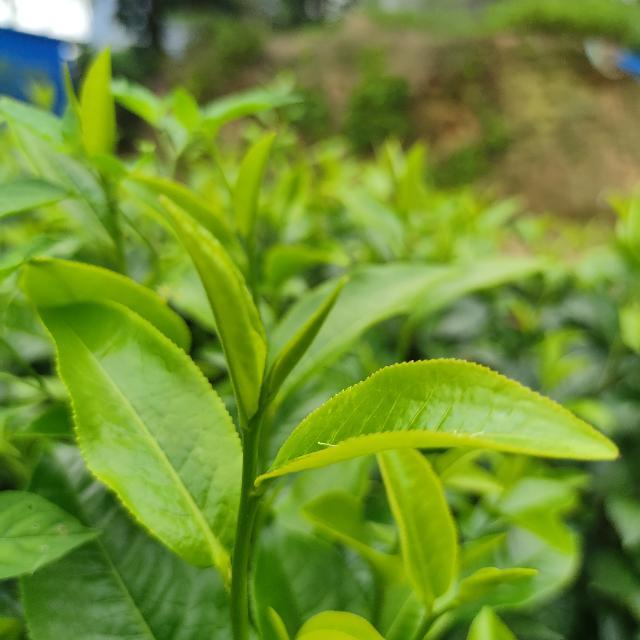Stem: (242, 428, 260, 446)
